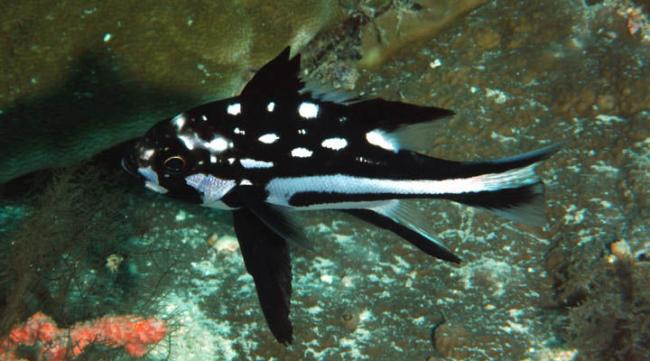fish: (121, 45, 563, 348)
